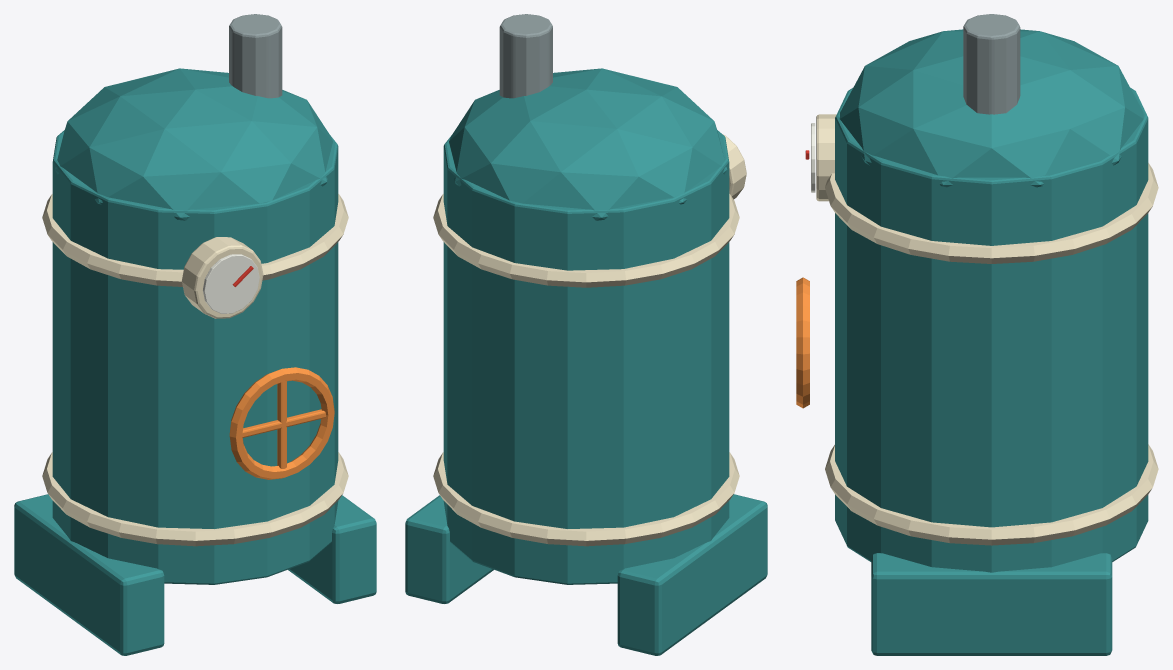
File: S084_cartoon_boiler.glb
The picture shows the model from 3 angles, left to right: view 1: azimuth 30°, elevation 25°; view 2: azimuth 150°, elevation 25°; view 3: azimuth 270°, elevation 25°; orthographic projection. The views are drawn at different scales.
Visible parts, largest first — view 1: boiler_tank, boiler_top, boiler_foot, tank_band, boiler_foot.001, tank_band.001, boiler_vent, boiler_valve_wheel, pressure_gauge, gauge_face, valve_spoke.001, valve_spoke; view 2: boiler_tank, boiler_top, boiler_foot, tank_band, tank_band.001, boiler_foot.001, boiler_vent, pressure_gauge; view 3: boiler_tank, boiler_top, boiler_foot.001, tank_band, tank_band.001, boiler_vent, boiler_valve_wheel, pressure_gauge.
Part boxes in pixels (x1,y1,x2,y2): boiler_tank: [52, 130, 338, 584]; boiler_top: [54, 68, 332, 220]; boiler_foot: [14, 494, 164, 655]; tank_band: [42, 452, 348, 546]; boiler_foot.001: [288, 495, 376, 603]; tank_band.001: [42, 194, 348, 286]; boiler_vent: [229, 14, 282, 98]; boiler_valve_wheel: [229, 367, 334, 479]; pressure_gauge: [182, 237, 263, 318]; gauge_face: [203, 254, 259, 313]; valve_spoke.001: [277, 381, 286, 468]; valve_spoke: [242, 409, 325, 437]; boiler_tank: [443, 130, 729, 584]; boiler_top: [449, 68, 727, 220]; boiler_foot: [617, 494, 767, 655]; tank_band: [433, 452, 739, 546]; tank_band.001: [433, 194, 739, 287]; boiler_foot.001: [405, 495, 493, 603]; boiler_vent: [499, 14, 552, 98]; pressure_gauge: [722, 134, 746, 199]; boiler_tank: [835, 87, 1148, 572]; boiler_top: [839, 29, 1143, 187]; boiler_foot.001: [871, 553, 1112, 655]; tank_band: [825, 444, 1158, 545]; tank_band.001: [825, 163, 1158, 263]; boiler_vent: [963, 14, 1020, 114]; boiler_valve_wheel: [796, 277, 809, 408]; pressure_gauge: [816, 114, 836, 201].
Size of the model in its own units: 1.15 by 2.27 by 1.25.
